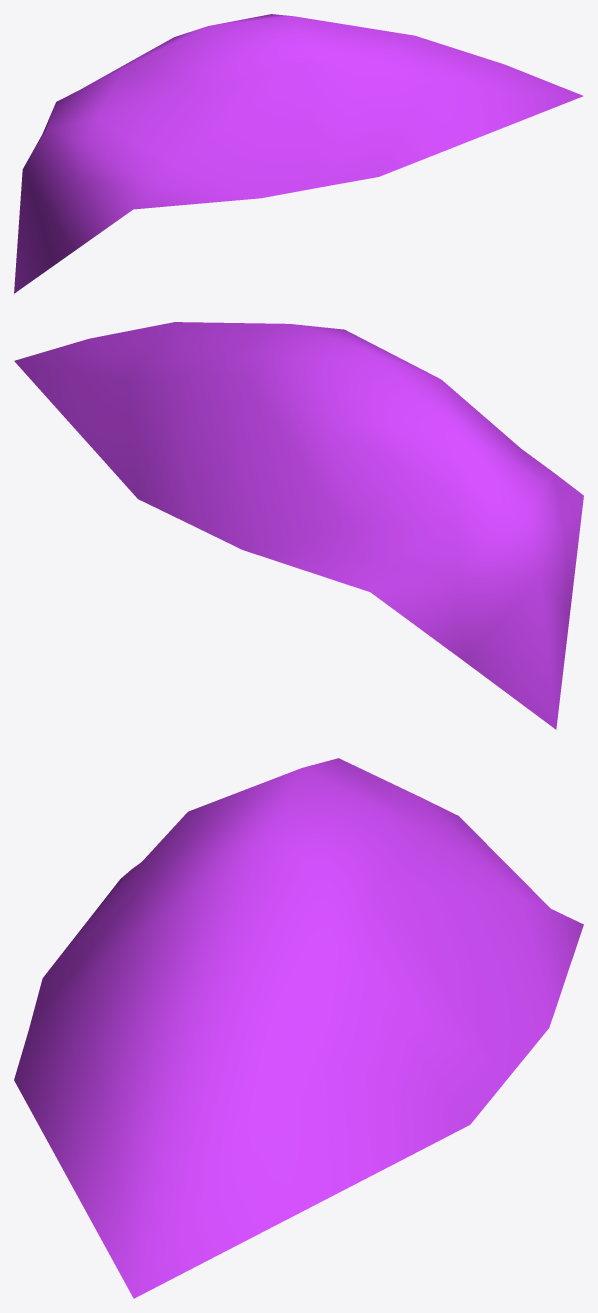
Rendered from Tank.fbx.
The picture shows the model from 3 angles, top to bottom: view 1: azimuth 30°, elevation 25°; view 2: azimuth 150°, elevation 25°; view 3: azimuth 270°, elevation 25°; orthographic projection. The views are drawn at different scales.
Parts seen in each view (by area): view 1: LOD0; view 2: LOD0; view 3: LOD0.
Part boxes in pixels (box(x1,y1,x2,y2)): LOD0: box(14, 14, 583, 293); LOD0: box(14, 322, 583, 729); LOD0: box(14, 758, 583, 1298).
Size of what is drawn, in the model's own units: 203 by 93.61 by 105.
